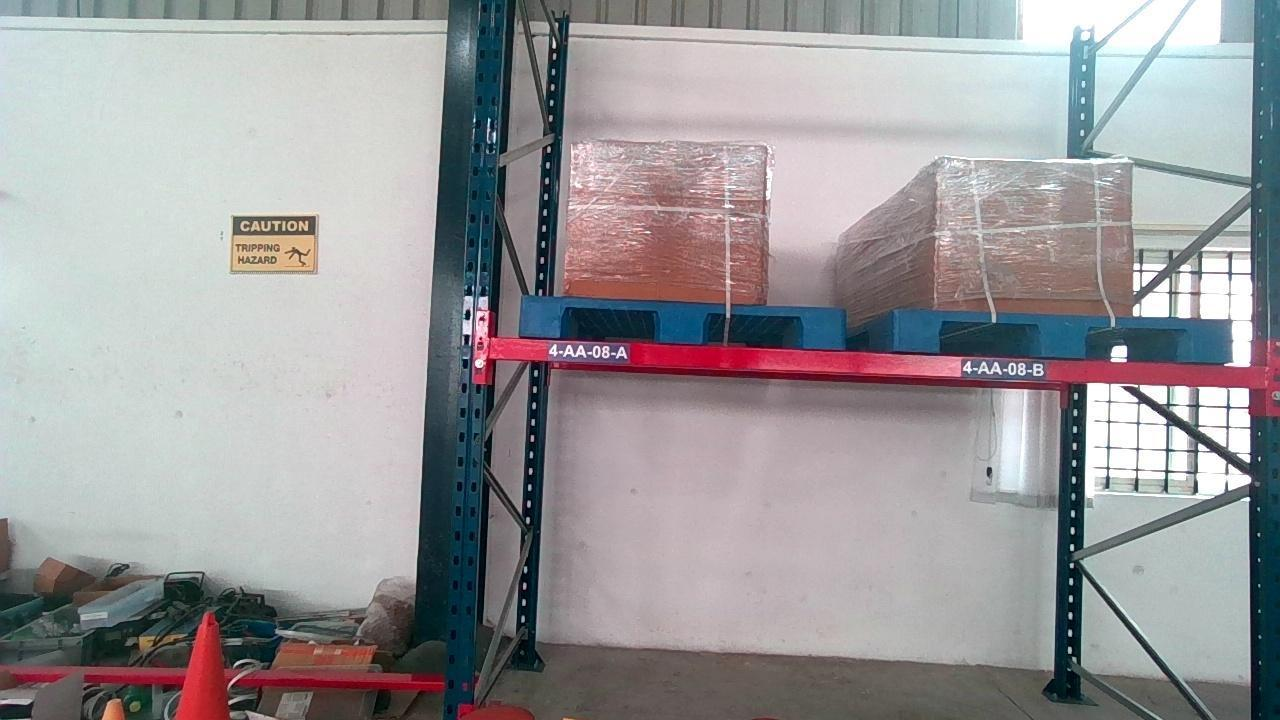h_rack: (487, 336, 1267, 386)
small_pallet: (894, 312, 1226, 358), (521, 299, 844, 343)
